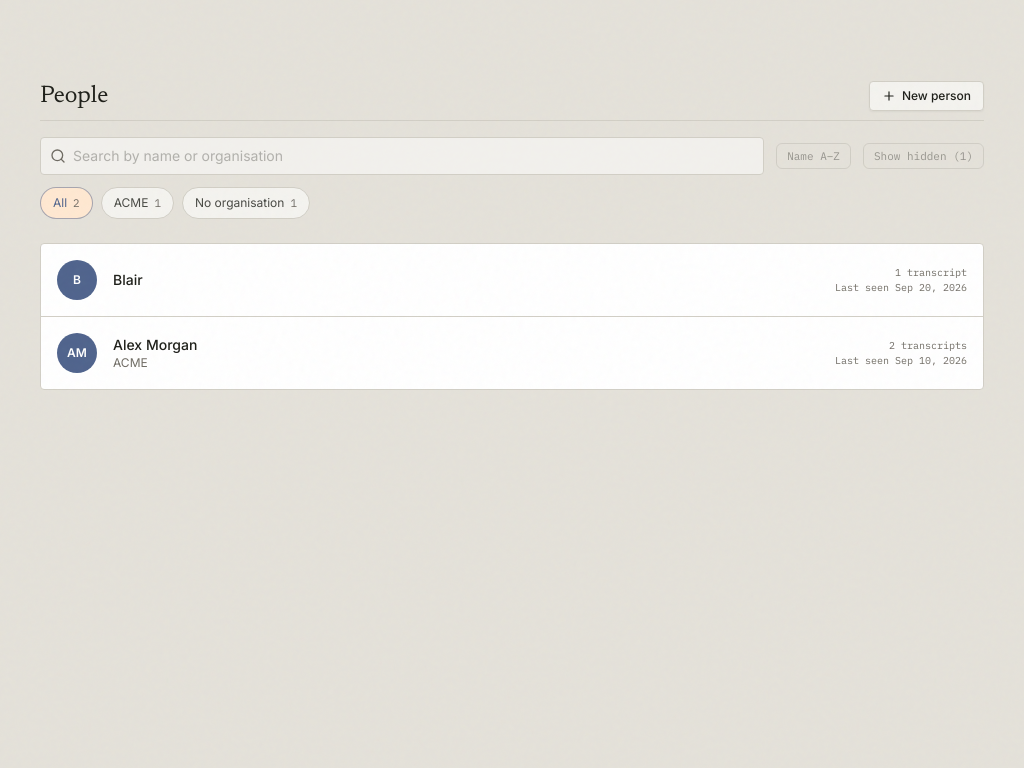
Scenario: adding a person › keeps the created person in the directory if the follow-up read fails
This screenshot has width=1024, height=768.
Click the button "New person".
click(926, 96)  # box [869,81,984,111]
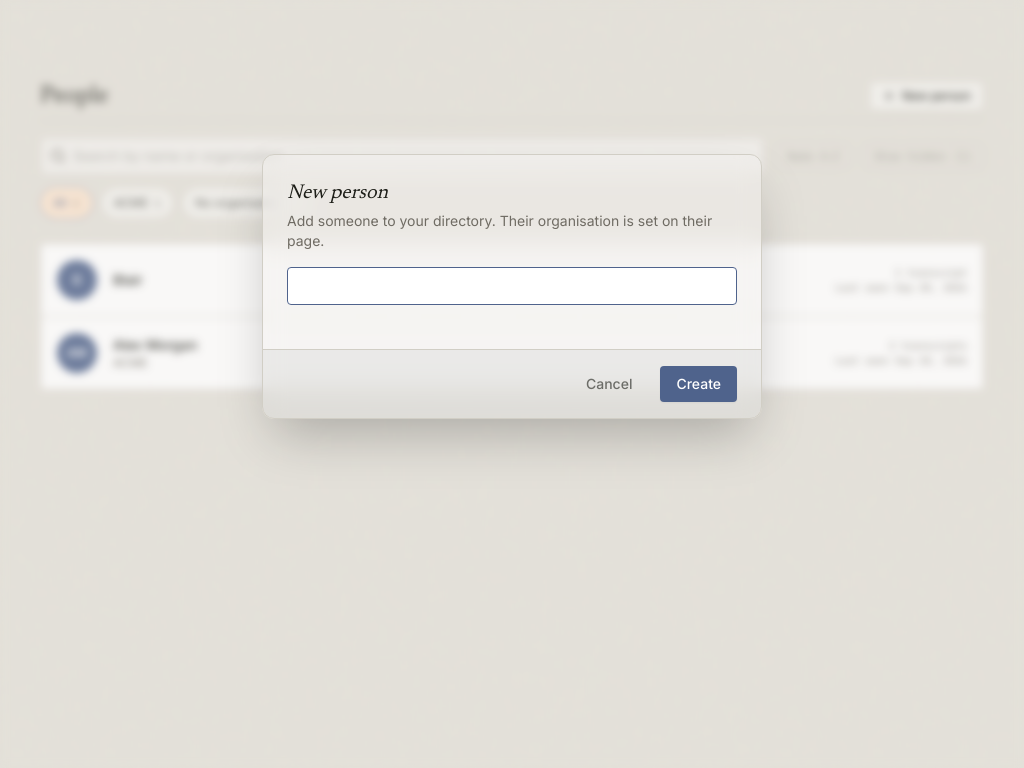
Type "Dana" into the field named "Name".
click(512, 286); type("Dana")  # box [287,267,737,305]
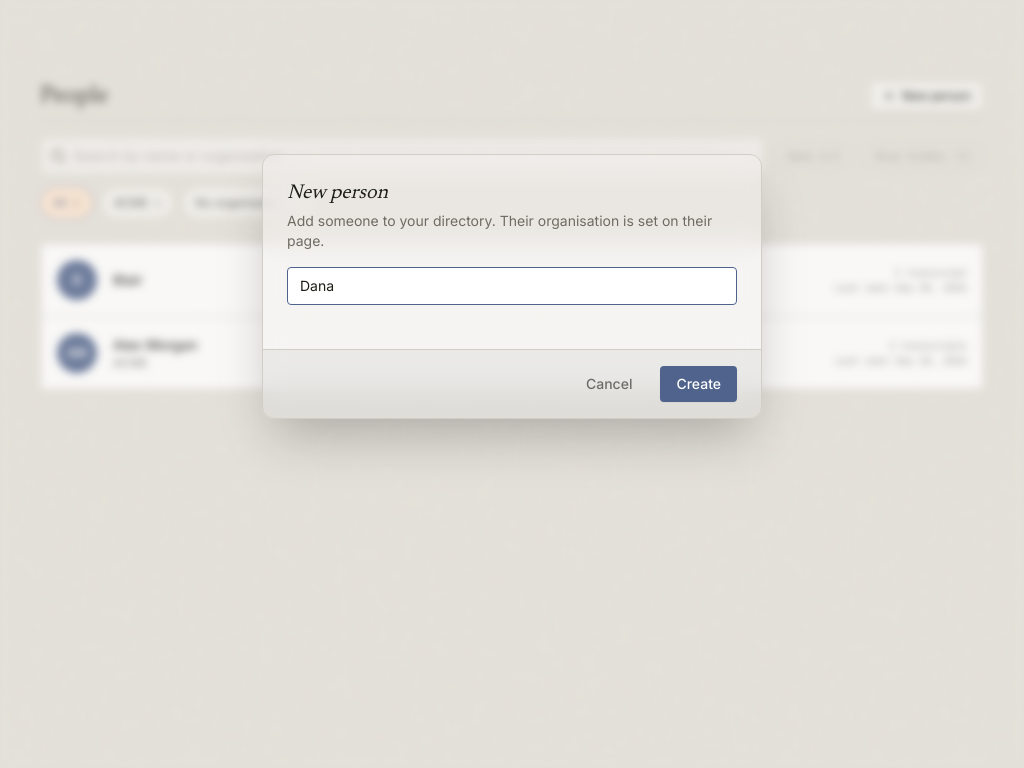
Click the button "Create".
click(699, 384)  # box [660,366,737,402]
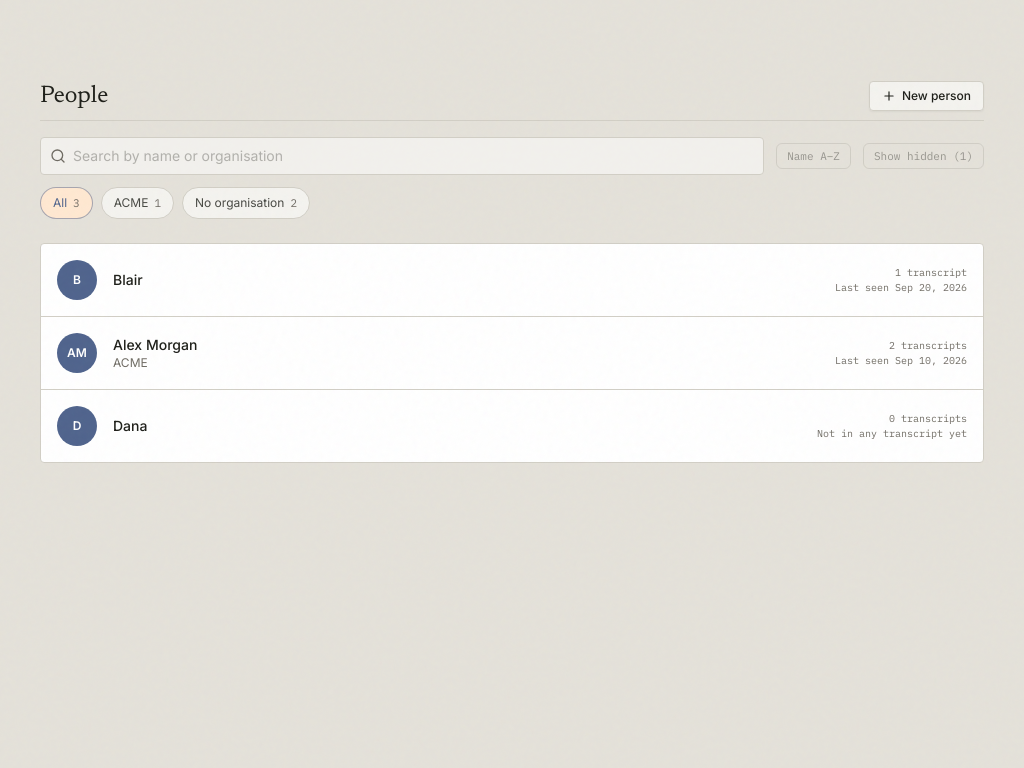
Expected: the link with test id "person-row-new-person" shows "Dana", [57,406,967,446]
Expected: the link with test id "person-row-new-person" shows "0 transcripts", [57,406,967,446]
